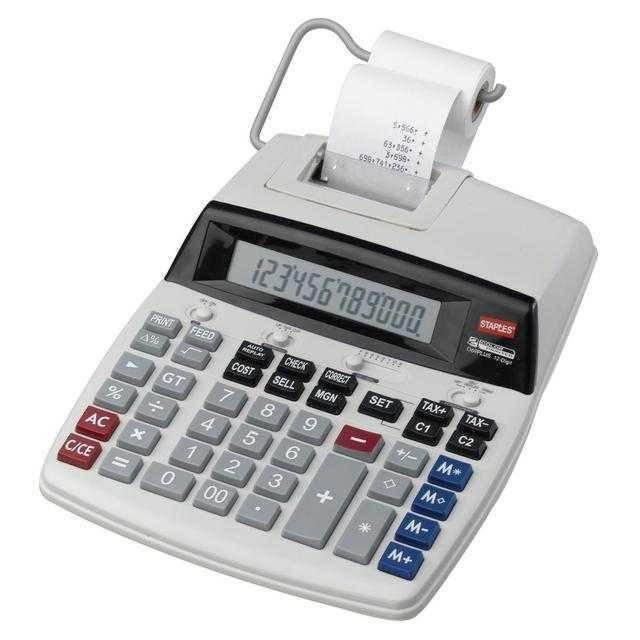Calculator: (41, 18, 596, 618)
